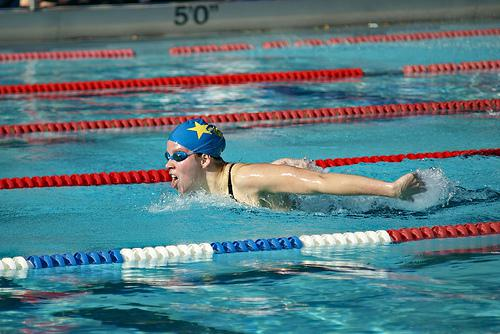swimmer: (160, 115, 436, 216)
